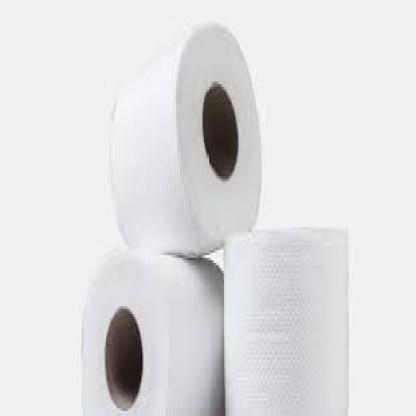tissue: (108, 19, 266, 256)
